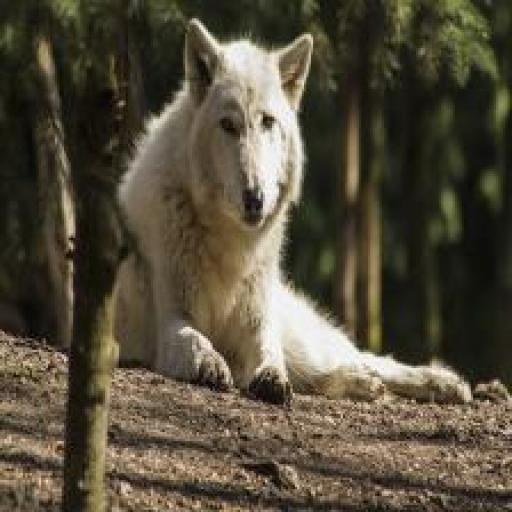wolf: (116, 21, 476, 400)
